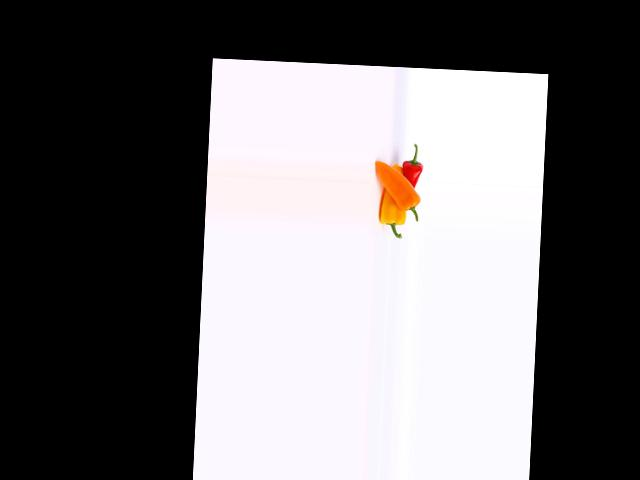bell_pepper: (372, 181, 410, 241)
